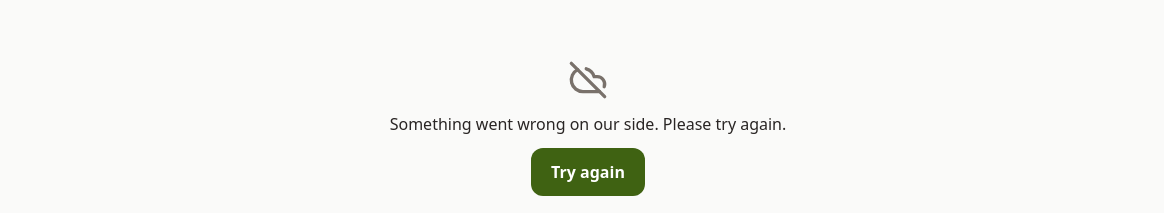
FarmListPage › shows an error with a working retry
The image size is (1164, 213).
Expected: the message shows "Something went wrong on our side", top-left (390, 113), bottom-right (786, 135)
Click the button "Try again": (588,172) top-left (531, 148), bottom-right (645, 196)
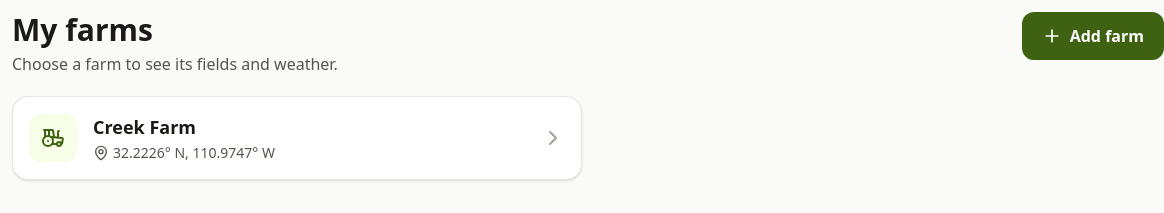
Now the link "Creek Farm 32.2226° N, 110.9747° W" is shown, box top-left (12, 96), bottom-right (582, 180)
